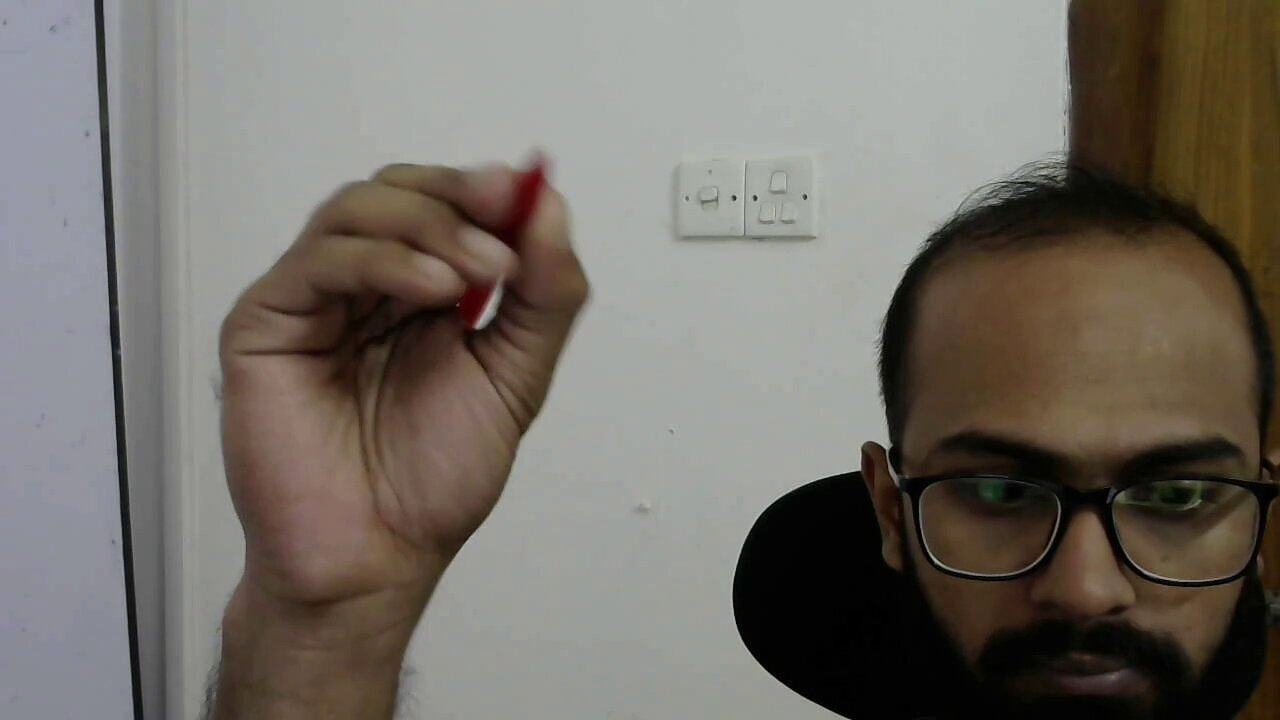pointer: (222, 152, 594, 484)
